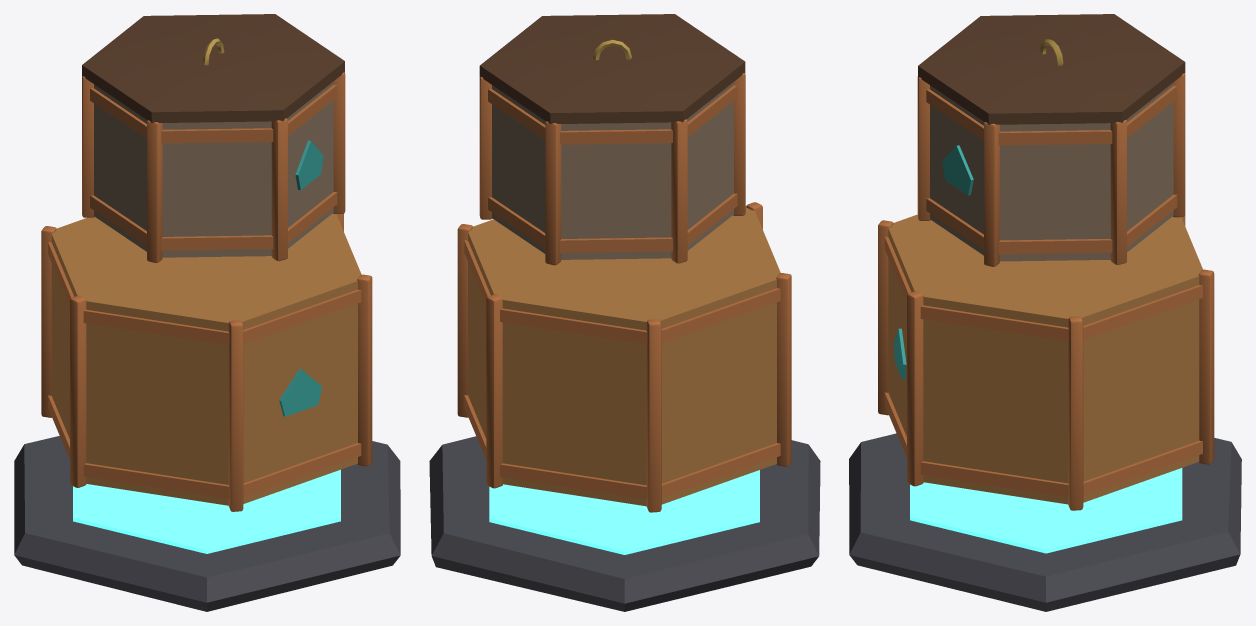
The model's file is deco_floating_crate_stack.fbx.
3 views of the same model, side by side, from view 1: azimuth 30°, elevation 25°; view 2: azimuth 150°, elevation 25°; view 3: azimuth 270°, elevation 25° (orthographic).
Visible parts, largest first — view 1: FloatingCrate_Stack_LowerBody, FloatingCrate_Stack_UpperBody, FloatingCrate_Stack_Pad, FloatingCrate_Stack_UpperLid, FloatingCrate_Stack_PadGlow; view 2: FloatingCrate_Stack_LowerBody, FloatingCrate_Stack_UpperBody, FloatingCrate_Stack_Pad, FloatingCrate_Stack_UpperLid, FloatingCrate_Stack_PadGlow; view 3: FloatingCrate_Stack_LowerBody, FloatingCrate_Stack_UpperBody, FloatingCrate_Stack_Pad, FloatingCrate_Stack_UpperLid, FloatingCrate_Stack_PadGlow.
Part boxes in pixels (x1=…): FloatingCrate_Stack_LowerBody: x1=41, y1=213, x2=372, y2=511; FloatingCrate_Stack_UpperBody: x1=82, y1=72, x2=345, y2=262; FloatingCrate_Stack_Pad: x1=14, y1=436, x2=400, y2=611; FloatingCrate_Stack_UpperLid: x1=82, y1=14, x2=344, y2=123; FloatingCrate_Stack_PadGlow: x1=73, y1=469, x2=340, y2=553; FloatingCrate_Stack_LowerBody: x1=457, y1=202, x2=791, y2=512; FloatingCrate_Stack_UpperBody: x1=479, y1=73, x2=745, y2=265; FloatingCrate_Stack_Pad: x1=429, y1=436, x2=820, y2=611; FloatingCrate_Stack_UpperLid: x1=479, y1=14, x2=745, y2=124; FloatingCrate_Stack_PadGlow: x1=489, y1=470, x2=759, y2=554; FloatingCrate_Stack_LowerBody: x1=878, y1=214, x2=1214, y2=510; FloatingCrate_Stack_UpperBody: x1=917, y1=73, x2=1185, y2=266; FloatingCrate_Stack_Pad: x1=849, y1=433, x2=1241, y2=611; FloatingCrate_Stack_UpperLid: x1=918, y1=14, x2=1185, y2=124; FloatingCrate_Stack_PadGlow: x1=910, y1=468, x2=1182, y2=553.
Size of the model in its own units: 166 by 196 by 144.
